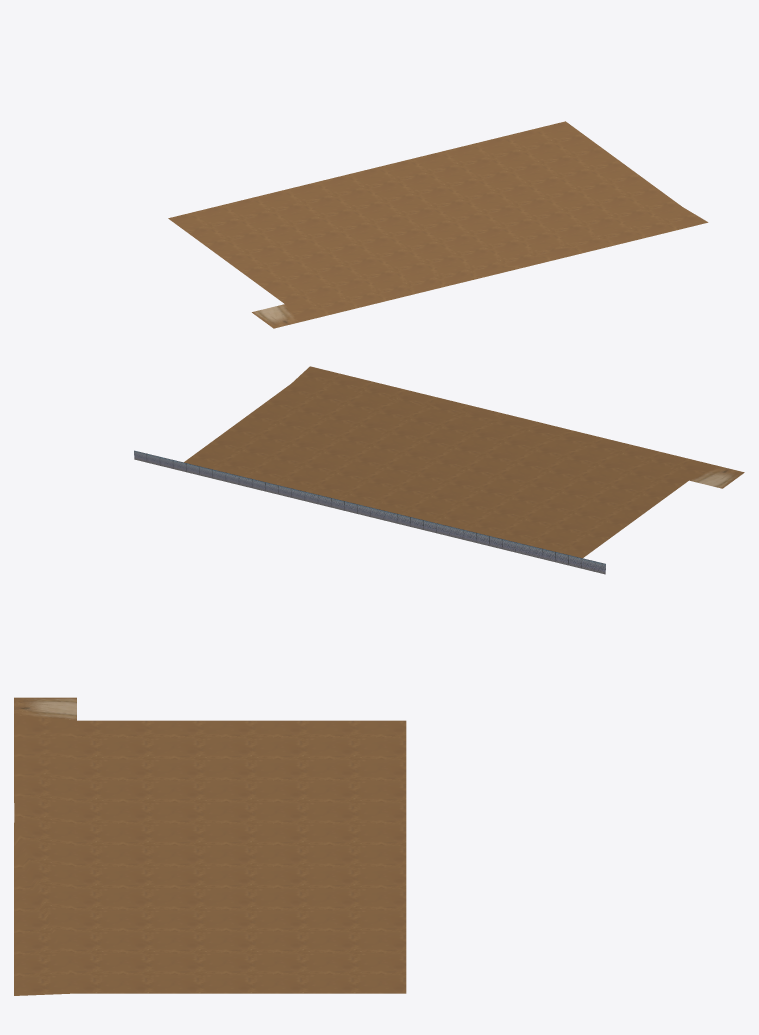
3 renders of one model, top to bottom at view 1: azimuth 30°, elevation 25°; view 2: azimuth 150°, elevation 25°; view 3: azimuth 270°, elevation 25°, orthographic. The views are drawn at different scales.
Parts seen in each view (by area): view 1: d2; view 2: d2; view 3: d2.
Boxes of the visible parts, x1,y1,x2,y2 form: d2: (168,121,708,328); d2: (134,366,744,574); d2: (14,697,406,995).
Size of the model in its own units: 29973 by 652 by 28579.
4 materials, 4 textured.
